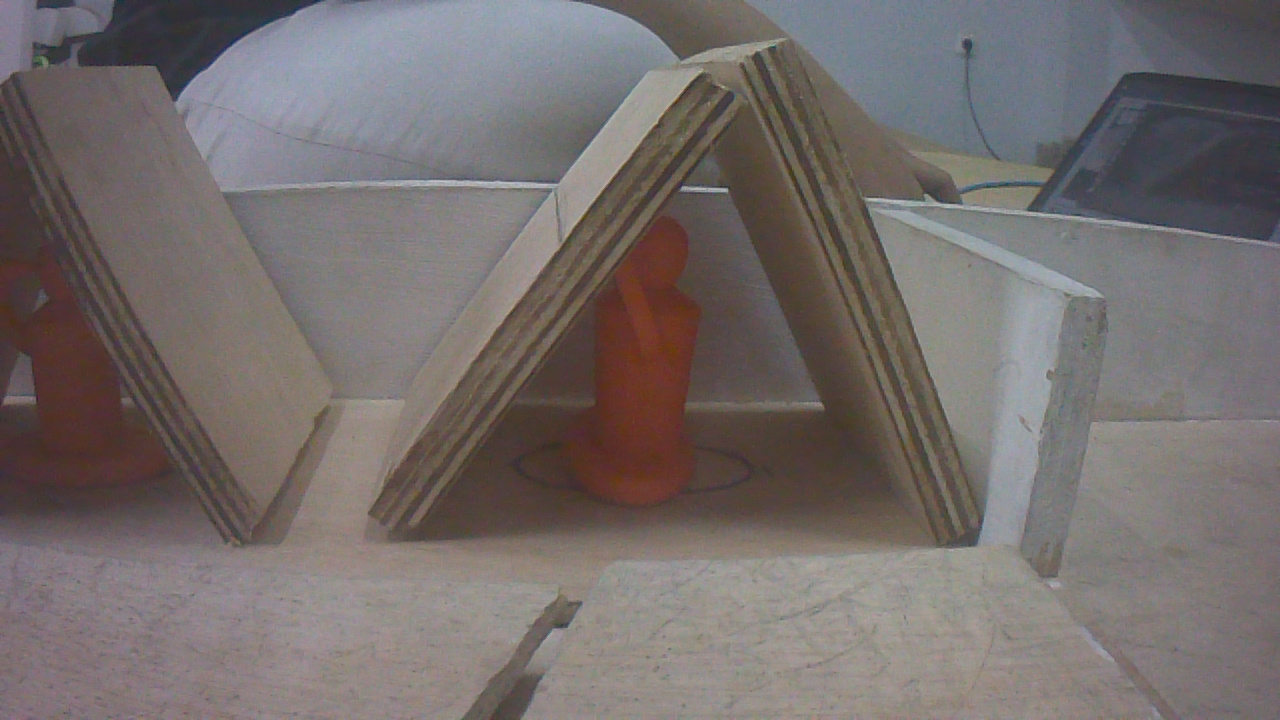real: (546, 199, 726, 500)
